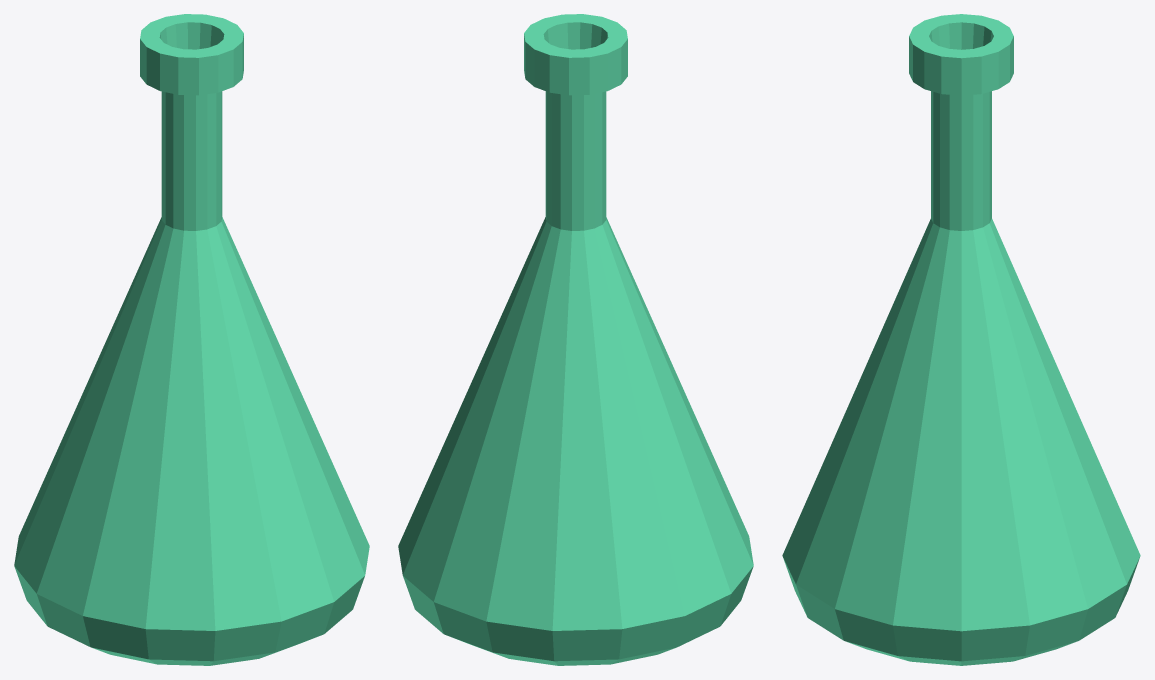
File: Potion Model.fbx
The picture shows the model from 3 angles, left to right: view 1: azimuth 30°, elevation 25°; view 2: azimuth 150°, elevation 25°; view 3: azimuth 270°, elevation 25°; orthographic projection.
Parts seen in each view (by area): view 1: Potion Tall.001; view 2: Potion Tall.001; view 3: Potion Tall.001.
Part boxes in pixels (<box>): Potion Tall.001: <box>14,14,369,665</box>; Potion Tall.001: <box>398,14,753,665</box>; Potion Tall.001: <box>782,14,1140,665</box>.
Size of the model in its own units: 11.82 by 20.87 by 11.82.
